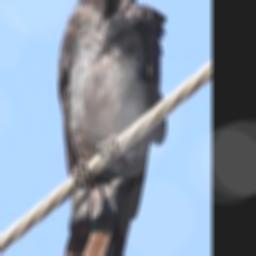Crow: (54, 0, 168, 256)
